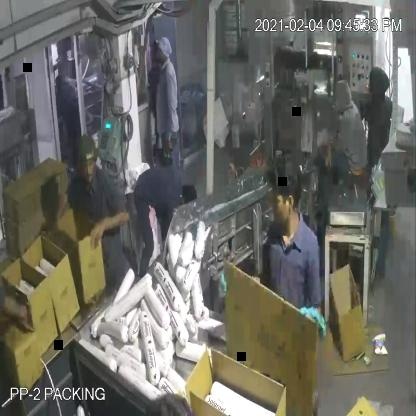no_glove: (1, 281, 50, 353), (84, 206, 134, 252), (162, 69, 180, 152), (48, 189, 76, 229)
